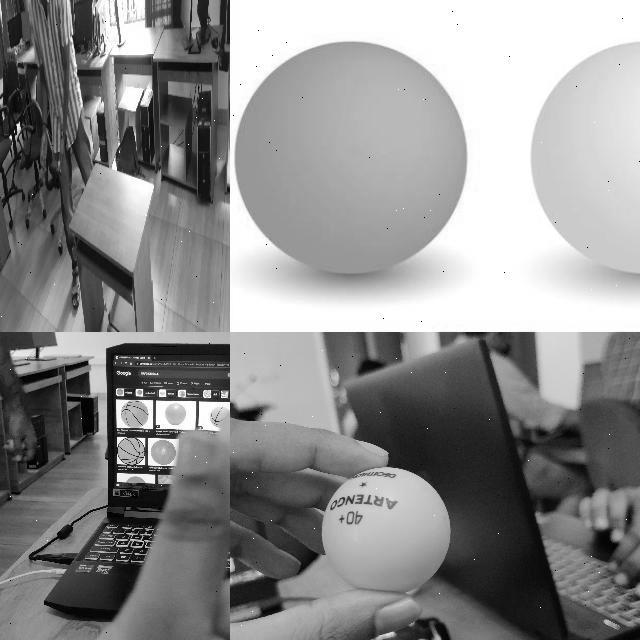ping-pong-ball: (236, 40, 468, 272), (530, 38, 640, 274), (322, 468, 448, 594), (57, 159, 60, 172)
